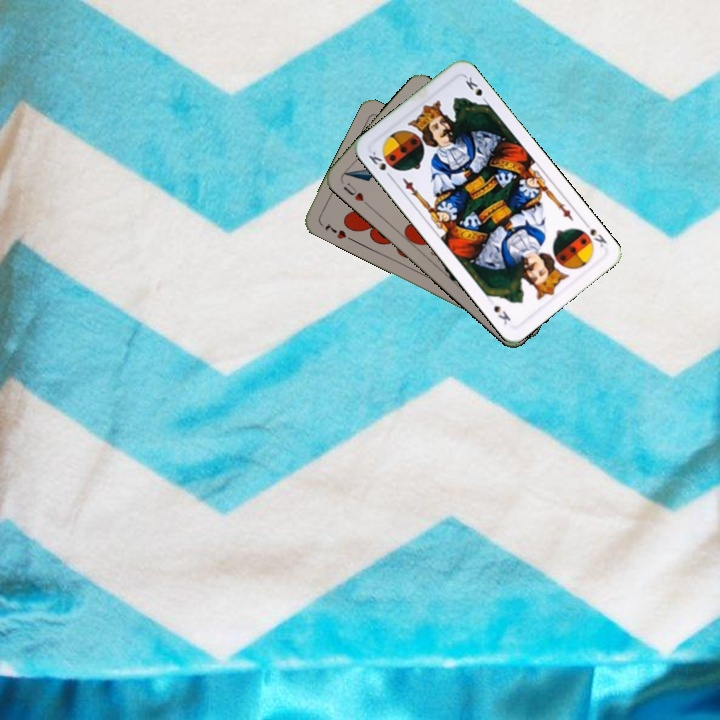H7: (321, 219, 349, 242)
HU: (340, 178, 371, 208)
SK: (364, 147, 395, 182), (579, 217, 609, 250)
